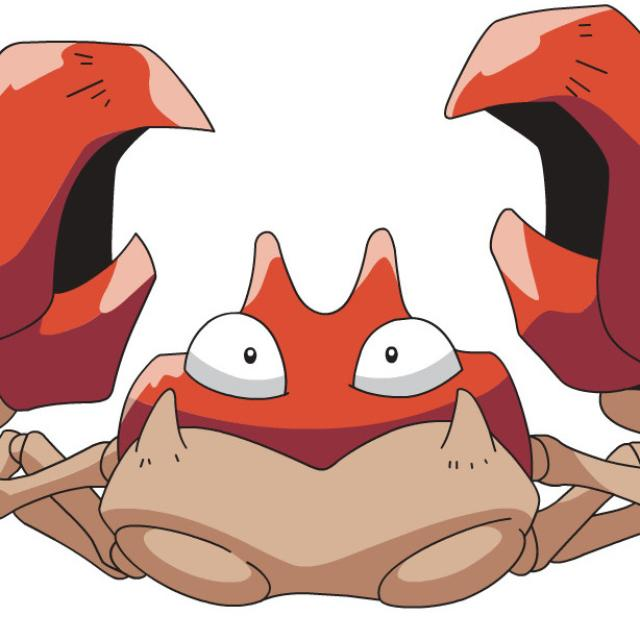Krabby: (57, 205, 577, 617)
